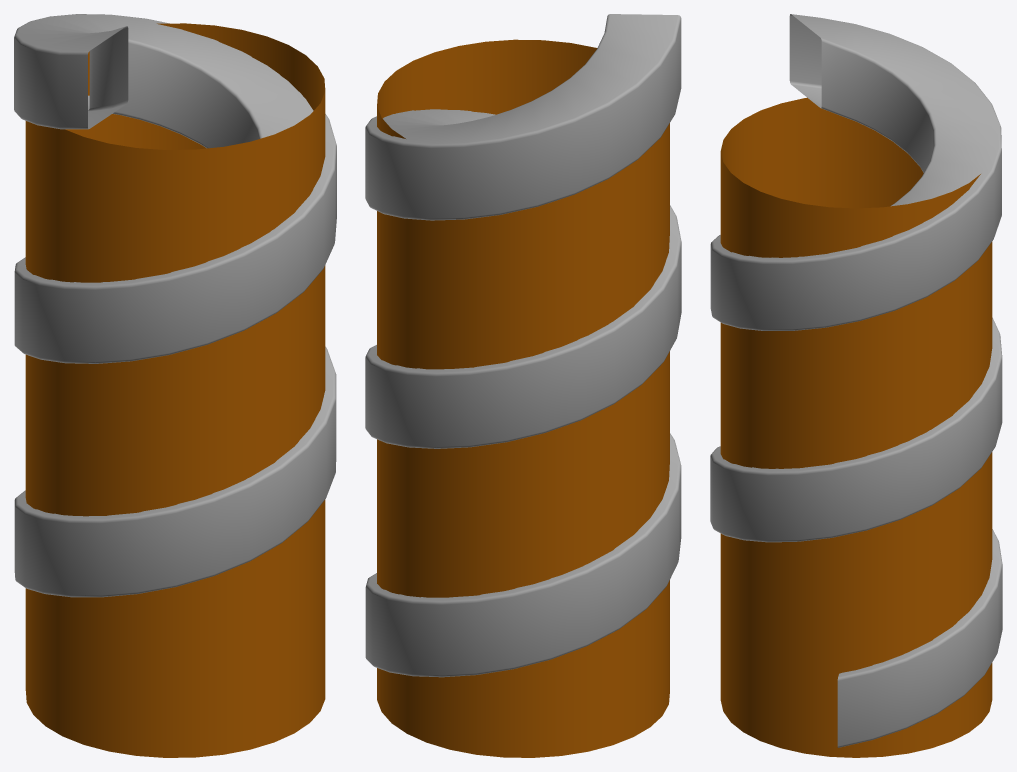
File: Pillars middle.fbx
The picture shows the model from 3 angles, left to right: view 1: azimuth 30°, elevation 25°; view 2: azimuth 150°, elevation 25°; view 3: azimuth 270°, elevation 25°; orthographic projection. The views are drawn at different scales.
Parts seen in each view (by area): view 1: WoodModPillSingleB; view 2: WoodModPillSingleB; view 3: WoodModPillSingleB.
Boxes of the visible parts, box(x1,y1,x2,y2) form: WoodModPillSingleB: box(14, 14, 336, 757); WoodModPillSingleB: box(365, 14, 681, 757); WoodModPillSingleB: box(710, 14, 1002, 757).
Size of the model in its own units: 134 by 134 by 321.
